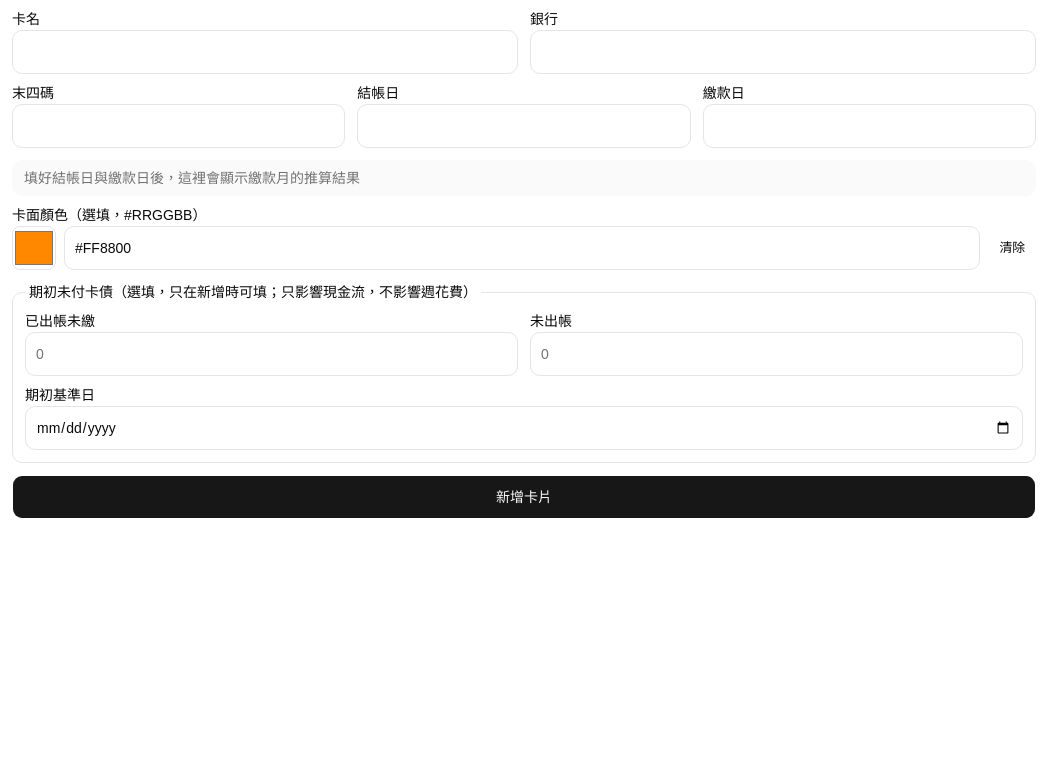
Test case: CardForm 檢核與錯誤 › 網路錯誤 → 整體錯誤「連線失敗，請稍後再試」，按鈕放開
This screenshot has width=1048, height=780.
In the field labelled "卡名": (265, 52) [12,30,518,74], type "主卡"
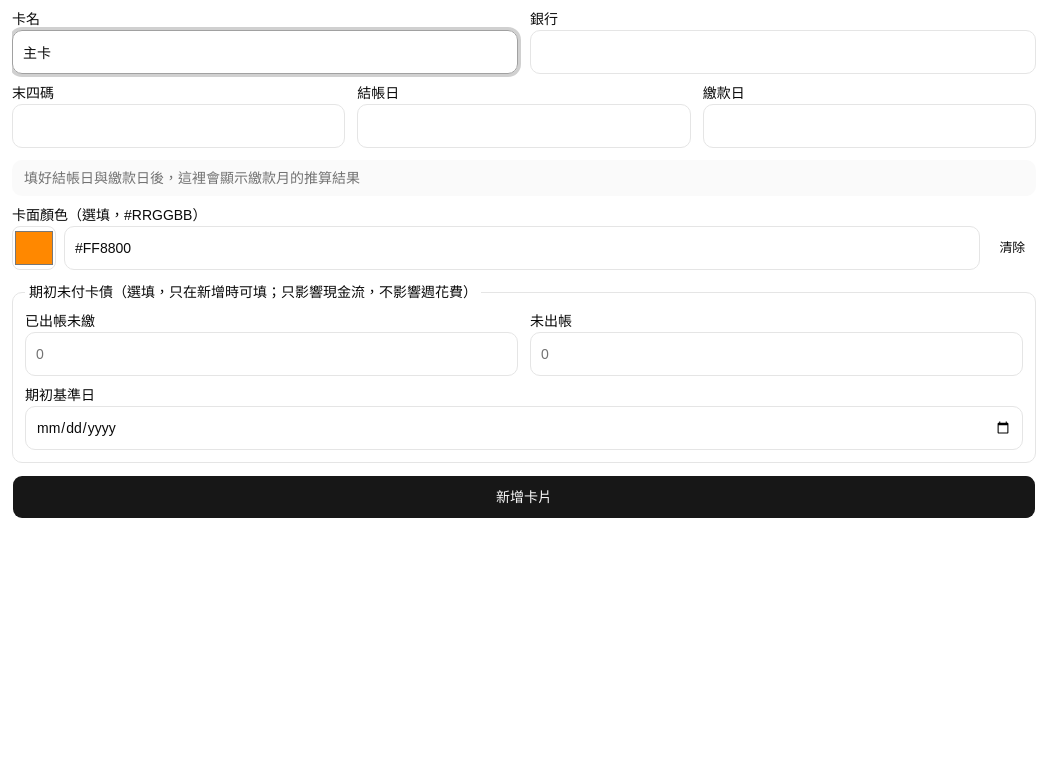
In the field labelled "銀行": (783, 52) [530,30,1036,74], type "台新"
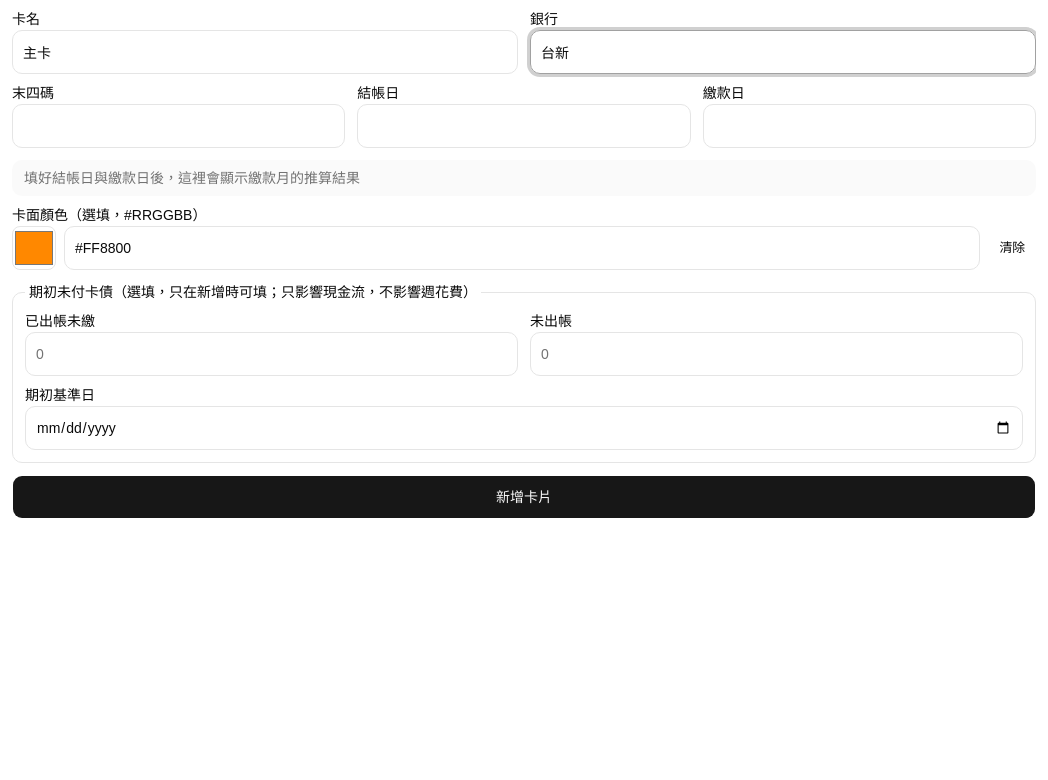
In the field labelled "末四碼": (179, 126) [12,104,345,148], type "1234"
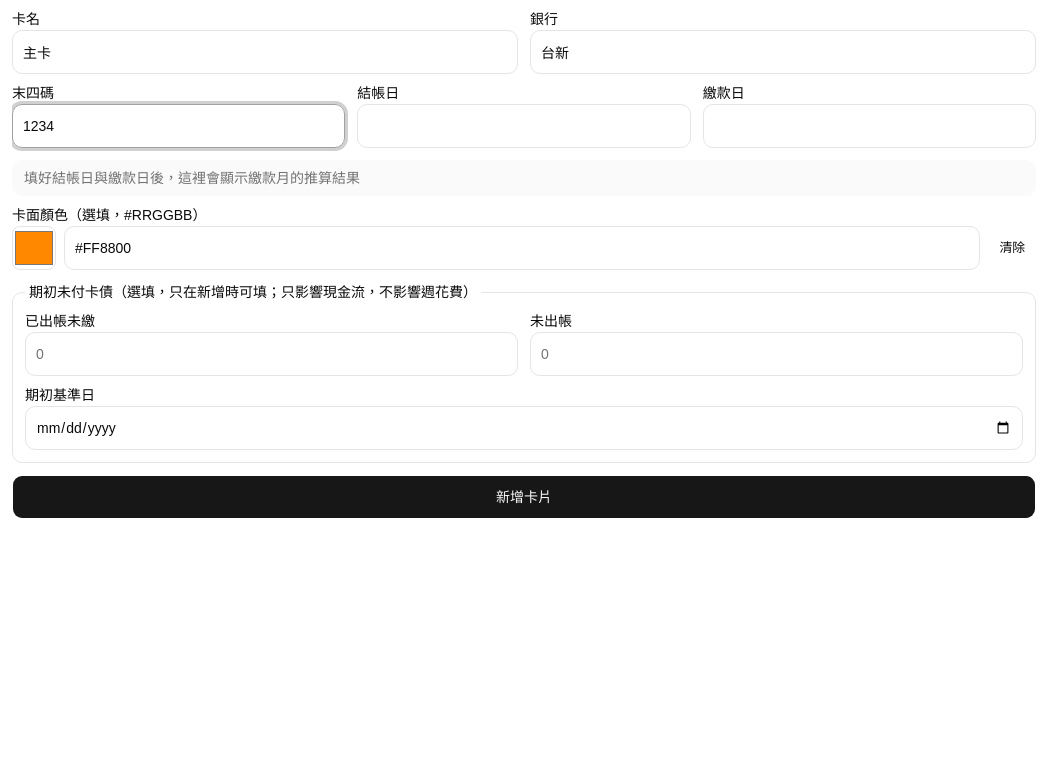
In the field labelled "結帳日": (524, 126) [357,104,691,148], type "27"
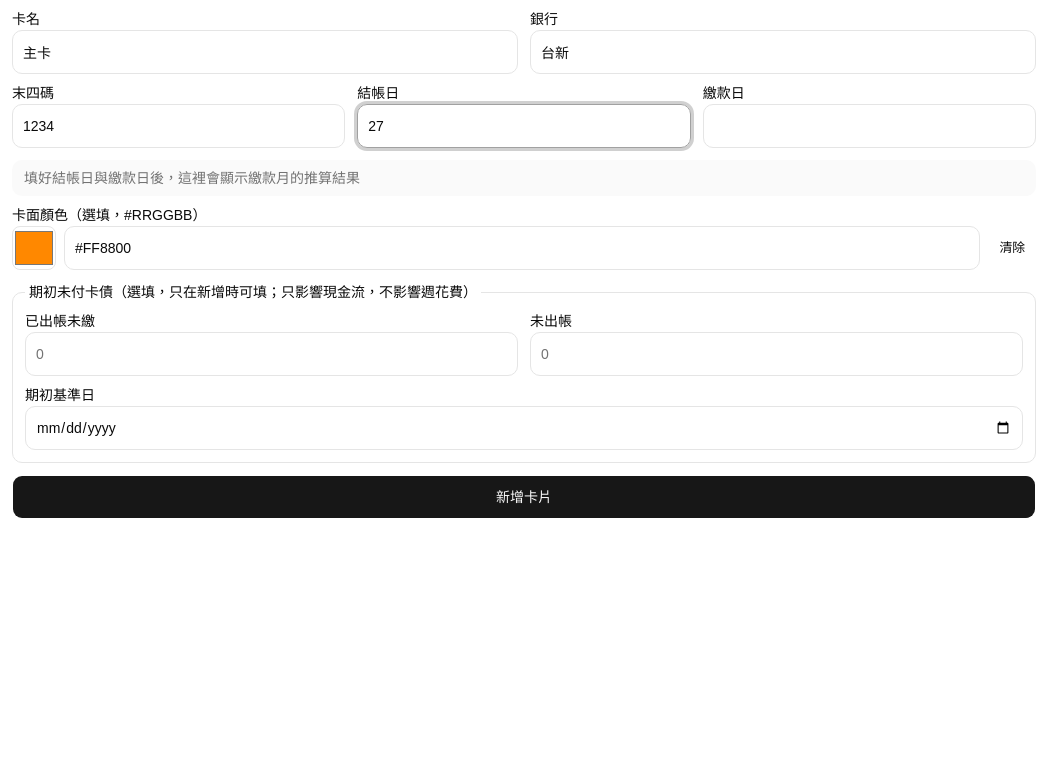
In the field labelled "繳款日": (869, 126) [703,104,1036,148], type "11"
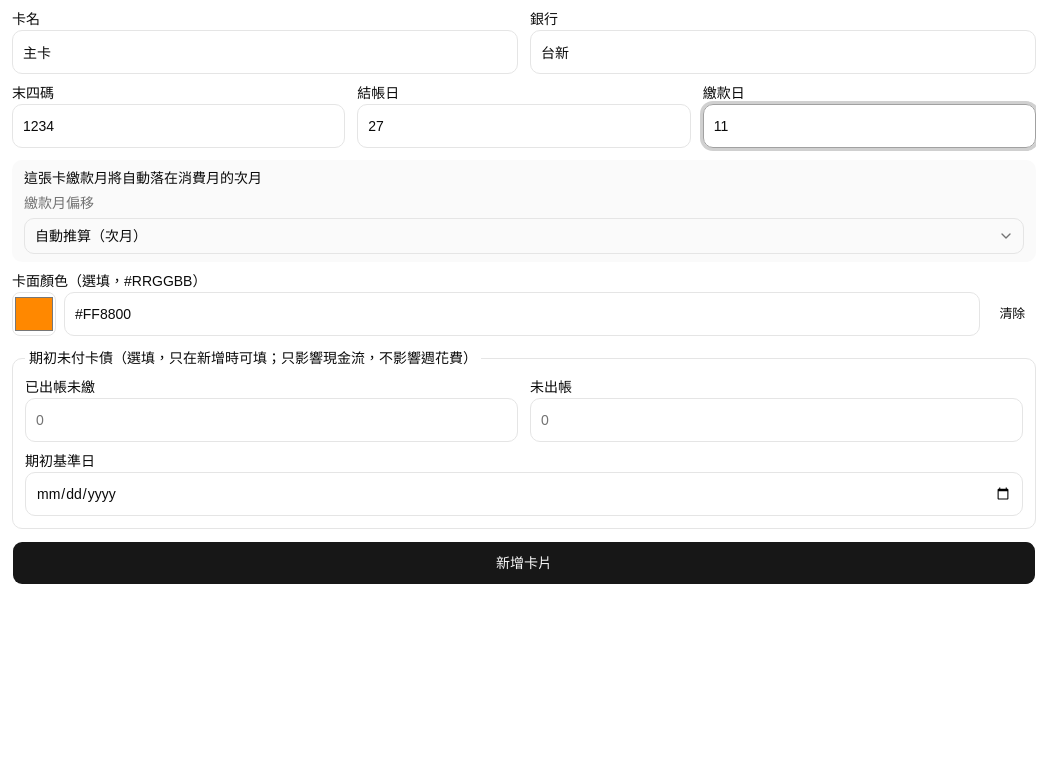
Click the button with test id "submit": click(524, 563) [12,541,1036,585]
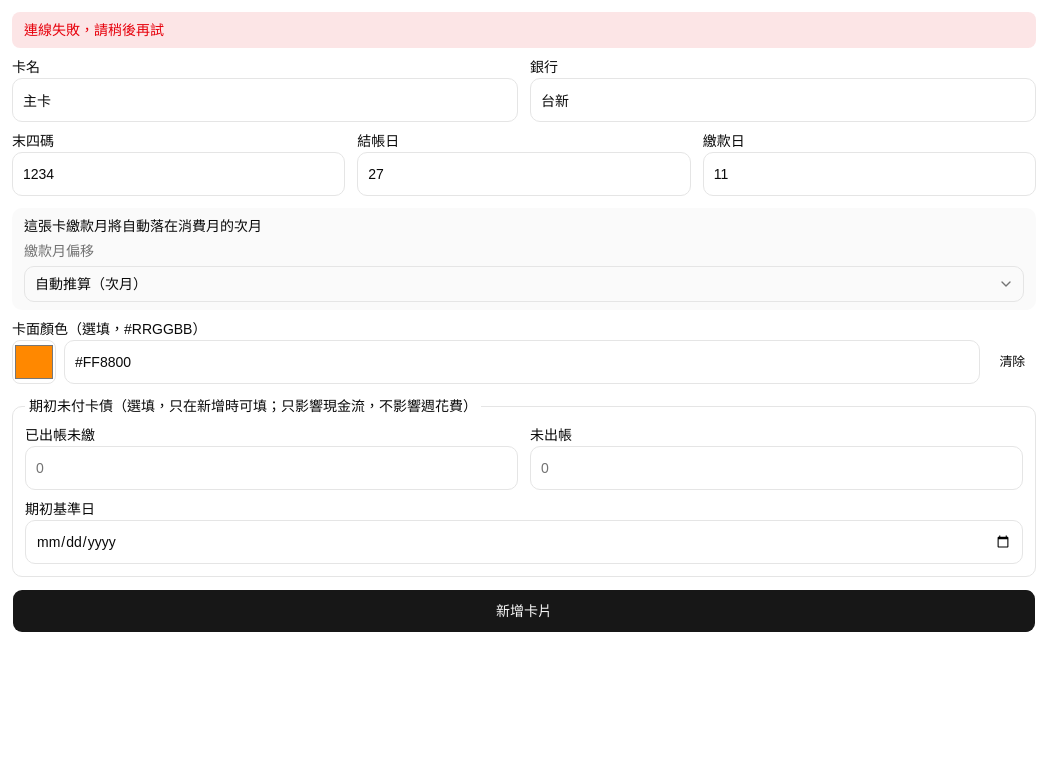
Expected: the button with test id "submit" is enabled, [12,589,1036,633]
Expected: the message with test id "form-error" reads "連線失敗，請稍後再試", [24,22,164,38]
